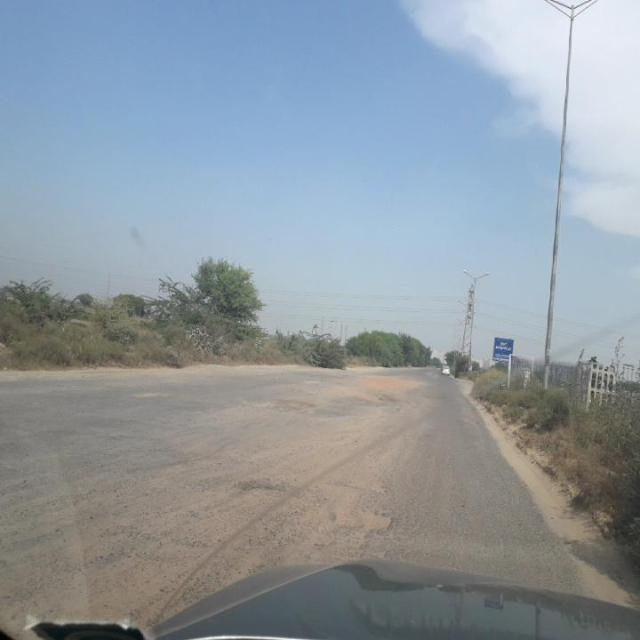Surface Erosion: (45, 290, 595, 619)
